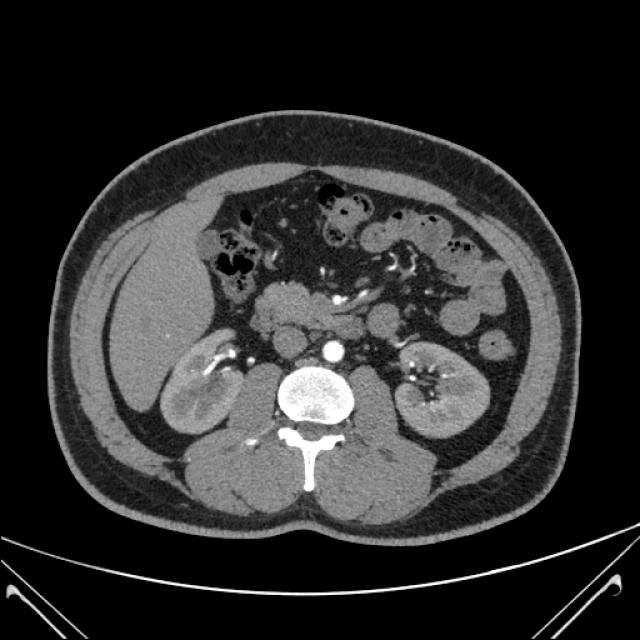Kidney: (36, 113, 569, 548)
